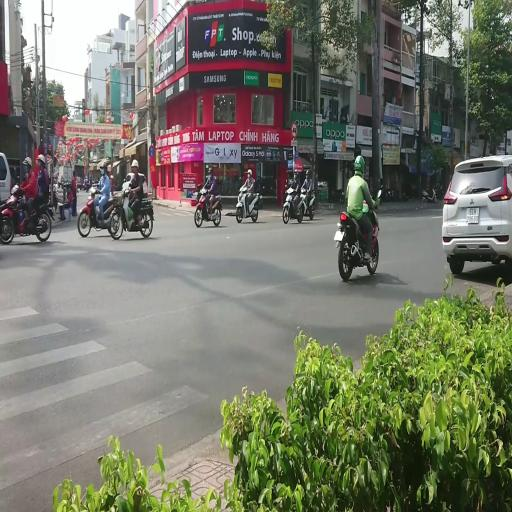bikes: (334, 186, 382, 281), (0, 183, 52, 243), (109, 180, 154, 239), (77, 184, 123, 238), (282, 168, 315, 223), (194, 186, 222, 227), (235, 185, 261, 223), (54, 177, 74, 221), (282, 184, 303, 224), (298, 185, 315, 220), (422, 187, 437, 203)
helmet: (99, 157, 111, 175), (354, 155, 365, 173), (294, 158, 303, 172), (22, 156, 32, 166), (126, 172, 134, 184), (36, 154, 45, 163), (11, 184, 19, 194), (131, 159, 138, 168), (99, 165, 105, 175), (103, 157, 110, 165), (376, 189, 382, 198), (46, 155, 52, 164), (68, 192, 73, 202), (90, 187, 96, 195), (288, 178, 294, 186), (213, 176, 219, 184), (305, 169, 310, 178), (106, 165, 112, 172), (99, 160, 104, 168), (247, 169, 252, 176), (293, 171, 298, 178), (294, 151, 299, 158), (47, 144, 52, 150), (201, 188, 206, 194), (208, 168, 212, 174), (72, 170, 76, 176), (84, 177, 88, 182), (110, 174, 114, 178)
